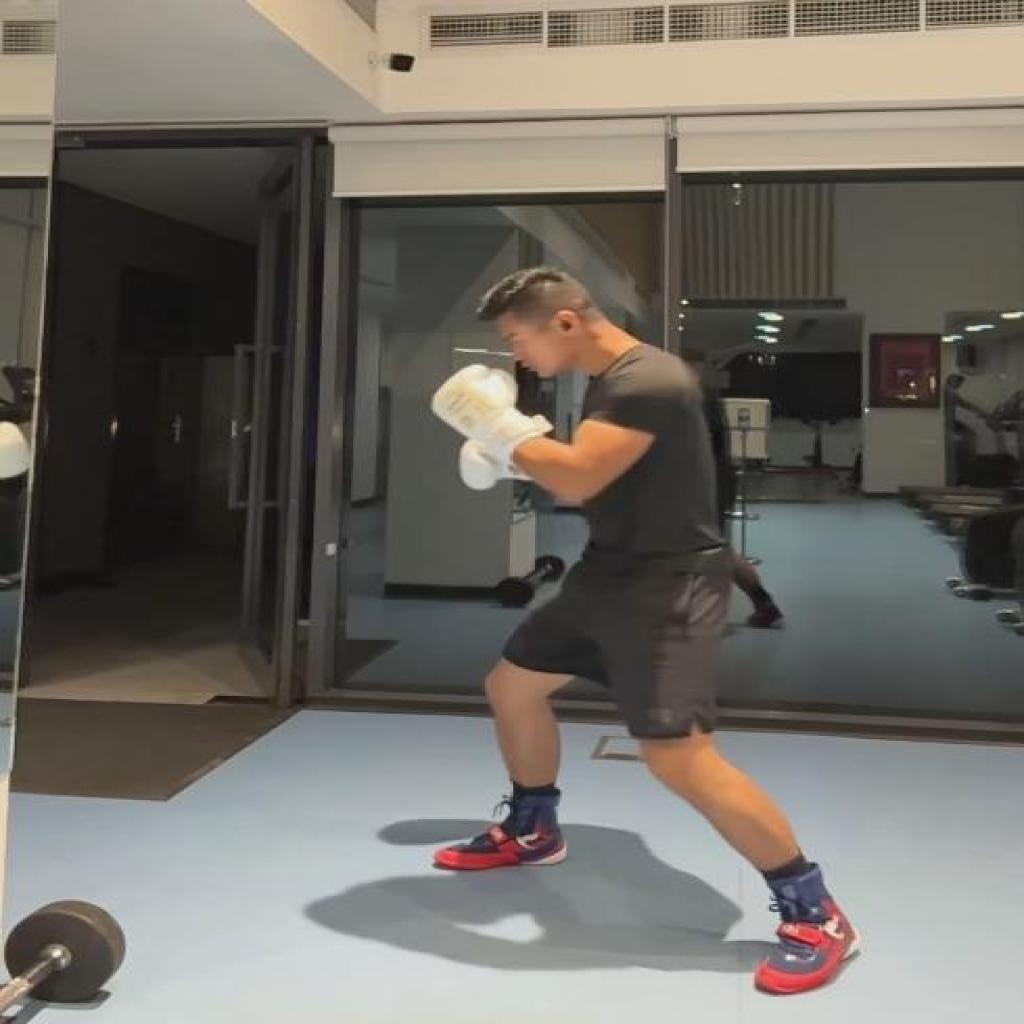no punch: (426, 264, 865, 994)
